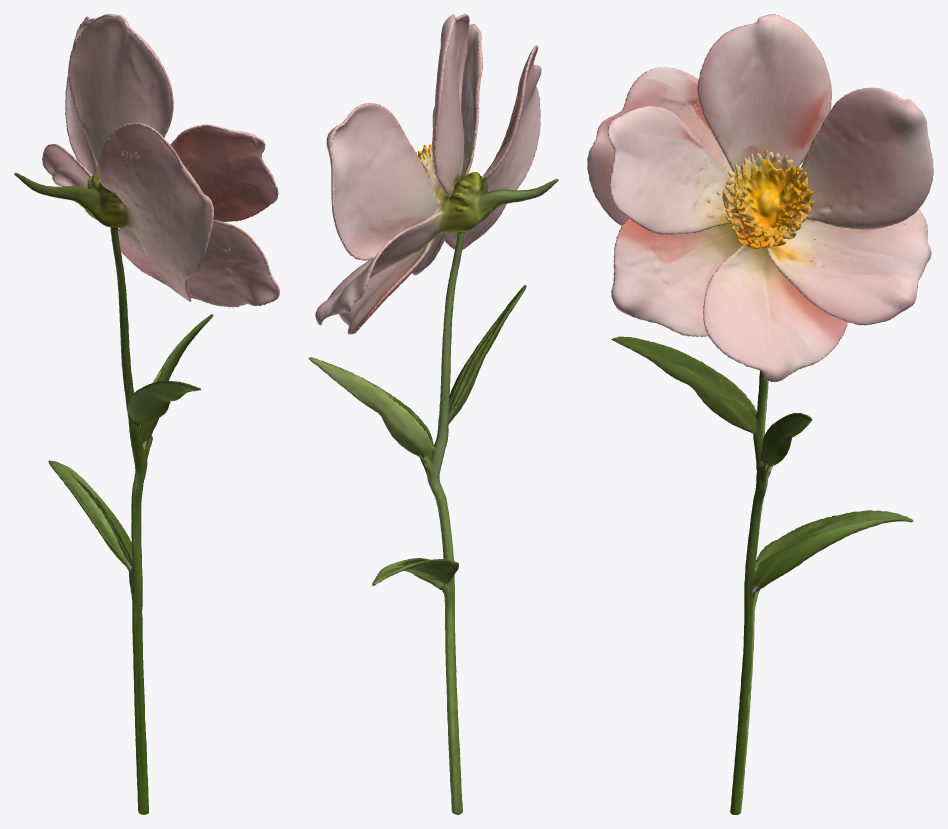
The model's file is threlef.glb.
The picture shows the model from 3 angles, left to right: view 1: azimuth 30°, elevation 25°; view 2: azimuth 150°, elevation 25°; view 3: azimuth 270°, elevation 25°; orthographic projection. The views are drawn at different scales.
Parts seen in each view (by area): view 1: tripo_node_b268084e-3eeb-4320-84d1-8344b3b88168; view 2: tripo_node_b268084e-3eeb-4320-84d1-8344b3b88168; view 3: tripo_node_b268084e-3eeb-4320-84d1-8344b3b88168.
Boxes of the visible parts, left/top/right/bottom form: tripo_node_b268084e-3eeb-4320-84d1-8344b3b88168: left=14, top=14, right=279, bottom=814; tripo_node_b268084e-3eeb-4320-84d1-8344b3b88168: left=308, top=14, right=558, bottom=814; tripo_node_b268084e-3eeb-4320-84d1-8344b3b88168: left=587, top=14, right=933, bottom=814.
Size of the model in its own units: 0.2936 by 1 by 0.3962.
Materials: 1 (1 with a texture image).
